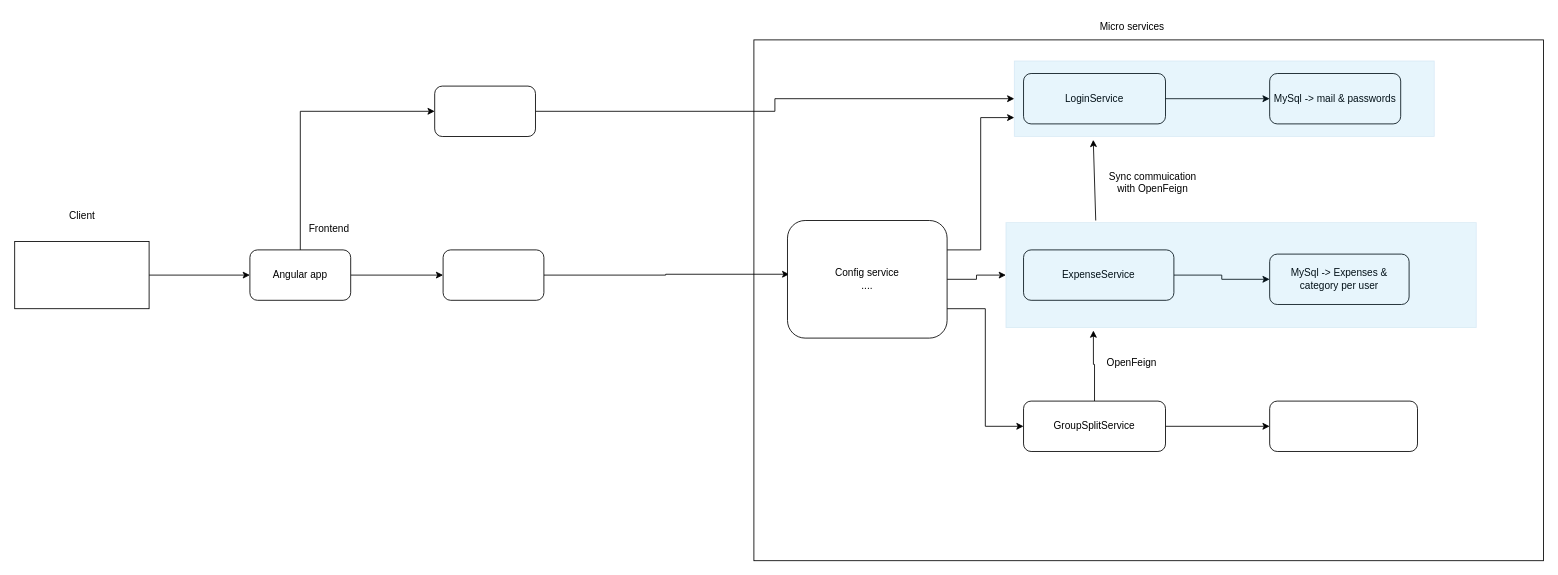
Some shapes in this 1558 by 575 pixel diagram are drawn without their labels. Each missing label, with the centre of its shape:
"API gateway" goes at (493,274).
"AuthService" goes at (485,110).
"Browser" goes at (81,275).
"MySql -> GroupExpenses" goes at (1343,426).
